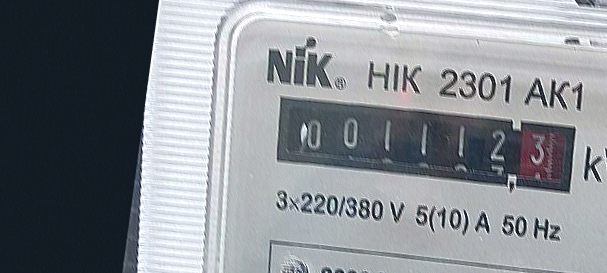0: (334, 114, 361, 154), (298, 116, 324, 153)
1: (373, 116, 396, 156), (411, 120, 430, 159), (449, 123, 468, 162)
2: (482, 127, 508, 166)
3: (523, 132, 545, 169)
screen: (261, 84, 583, 207)
